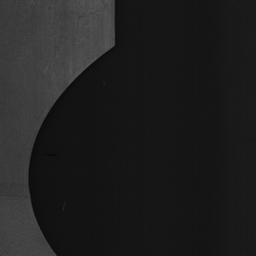Crescent gap: (28, 46, 115, 256)
